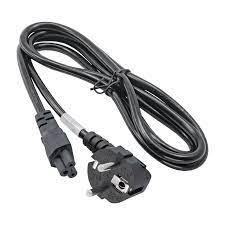cable: (17, 22, 209, 203)
